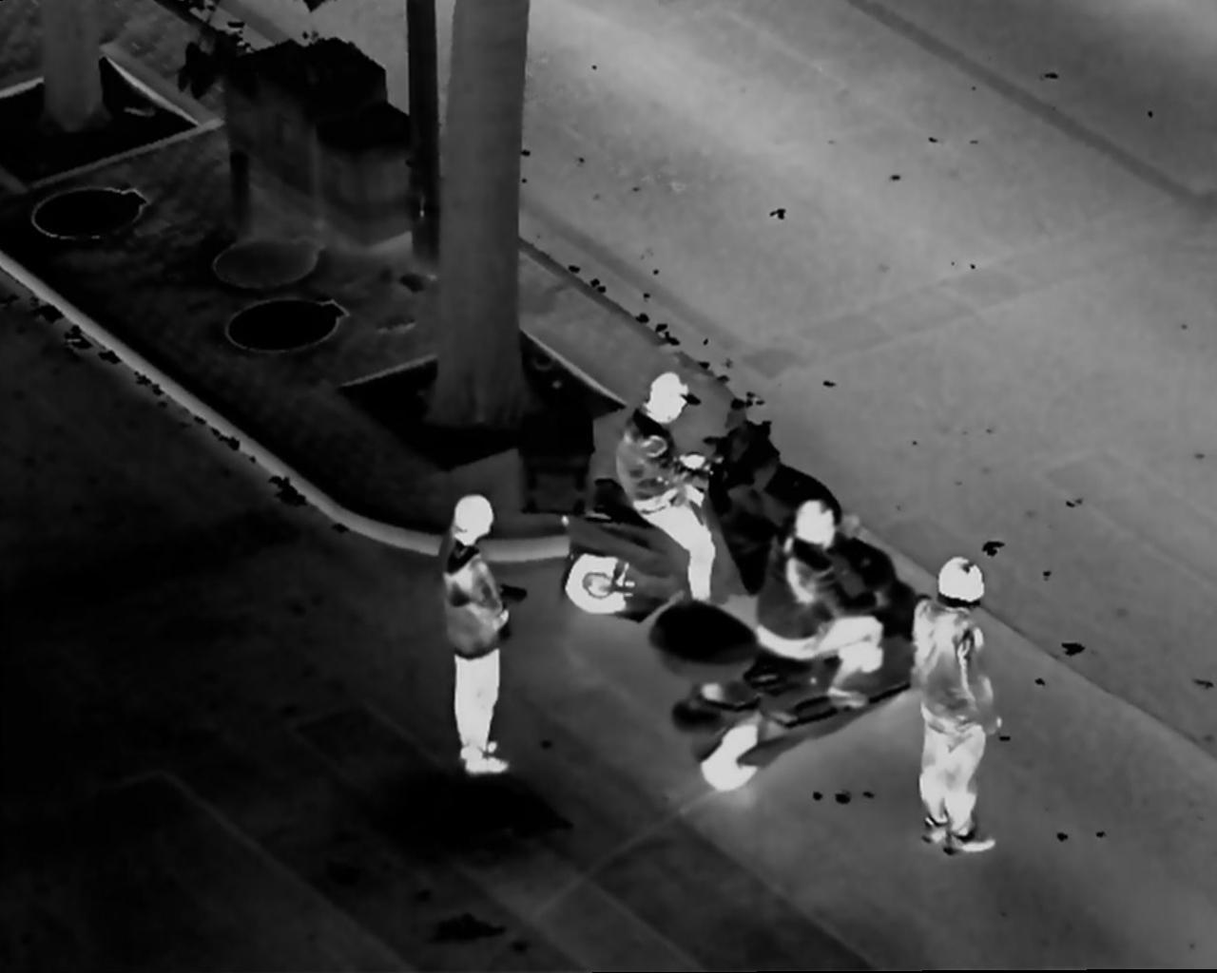person: (908, 552, 1005, 863), (436, 496, 530, 776), (763, 493, 882, 711), (615, 371, 720, 612)
